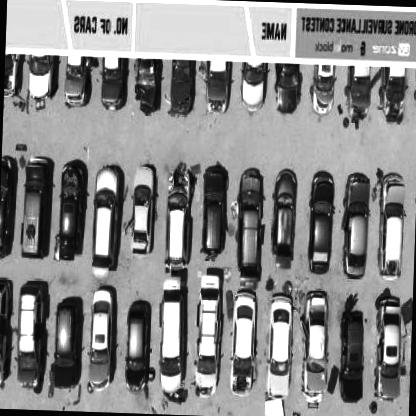car: (232, 170, 266, 281), (304, 176, 338, 278), (375, 291, 406, 401), (340, 173, 372, 278), (16, 280, 46, 390), (302, 290, 332, 393), (86, 295, 115, 396), (266, 298, 293, 403), (200, 160, 228, 260), (377, 183, 406, 278), (55, 166, 83, 264), (90, 178, 118, 271), (193, 294, 219, 390), (268, 182, 295, 274), (159, 294, 185, 388), (127, 174, 154, 262), (54, 302, 80, 390), (126, 305, 152, 393), (22, 172, 47, 260), (166, 180, 191, 262), (230, 300, 255, 381), (338, 318, 362, 401), (0, 158, 17, 262), (27, 54, 57, 107), (168, 60, 196, 116), (99, 57, 126, 112), (381, 67, 408, 122), (133, 60, 159, 115), (240, 61, 268, 112), (273, 64, 301, 115), (310, 64, 336, 116), (347, 70, 373, 122), (205, 62, 231, 113), (63, 56, 90, 105), (0, 290, 13, 382)
